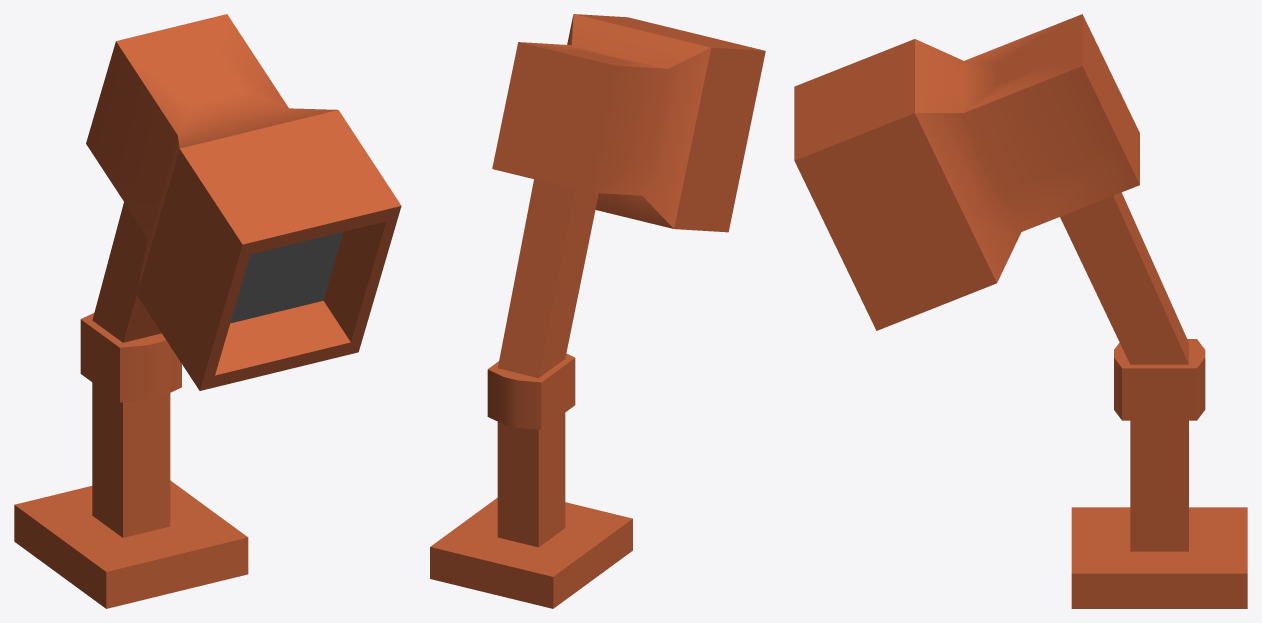
The model's file is deskLamp.fbx.
3 renders of one model, left to right at view 1: azimuth 30°, elevation 25°; view 2: azimuth 150°, elevation 25°; view 3: azimuth 270°, elevation 25°, orthographic. The views are drawn at different scales.
Visible parts, largest first — view 1: Lamp1; view 2: Lamp1; view 3: Lamp1.
Boxes of the visible parts, box(x1,y1,x2,y2) form: Lamp1: box(14, 14, 401, 608); Lamp1: box(430, 14, 765, 608); Lamp1: box(794, 14, 1247, 608).
Bounding box in the file's own units: 0.5333 × 1.8 × 1.38.
